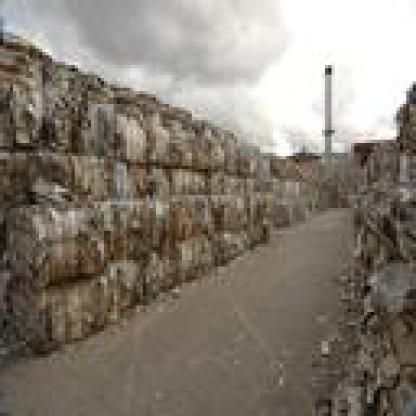CARDBOARD: (335, 254, 413, 413), (0, 266, 111, 352), (6, 198, 104, 276), (0, 146, 68, 247), (0, 30, 49, 146), (344, 218, 396, 308), (351, 188, 413, 254), (42, 58, 88, 146), (85, 74, 117, 150), (117, 84, 146, 162), (108, 254, 146, 312), (325, 150, 364, 202), (68, 150, 108, 198), (104, 198, 136, 257), (348, 140, 396, 178), (146, 101, 176, 159), (263, 176, 296, 228), (169, 192, 208, 234), (176, 234, 212, 276), (143, 244, 172, 296), (104, 153, 136, 198), (169, 108, 195, 162), (130, 159, 169, 195), (140, 195, 166, 247), (208, 192, 244, 228), (393, 81, 413, 143), (166, 162, 202, 192), (211, 228, 244, 260), (292, 176, 315, 218), (393, 146, 413, 188), (240, 192, 263, 228), (195, 121, 215, 162), (214, 127, 228, 169), (228, 127, 240, 169), (201, 166, 221, 188), (240, 143, 254, 172), (231, 172, 250, 188), (221, 169, 234, 189), (244, 224, 260, 240), (257, 150, 266, 178), (247, 179, 257, 185)
